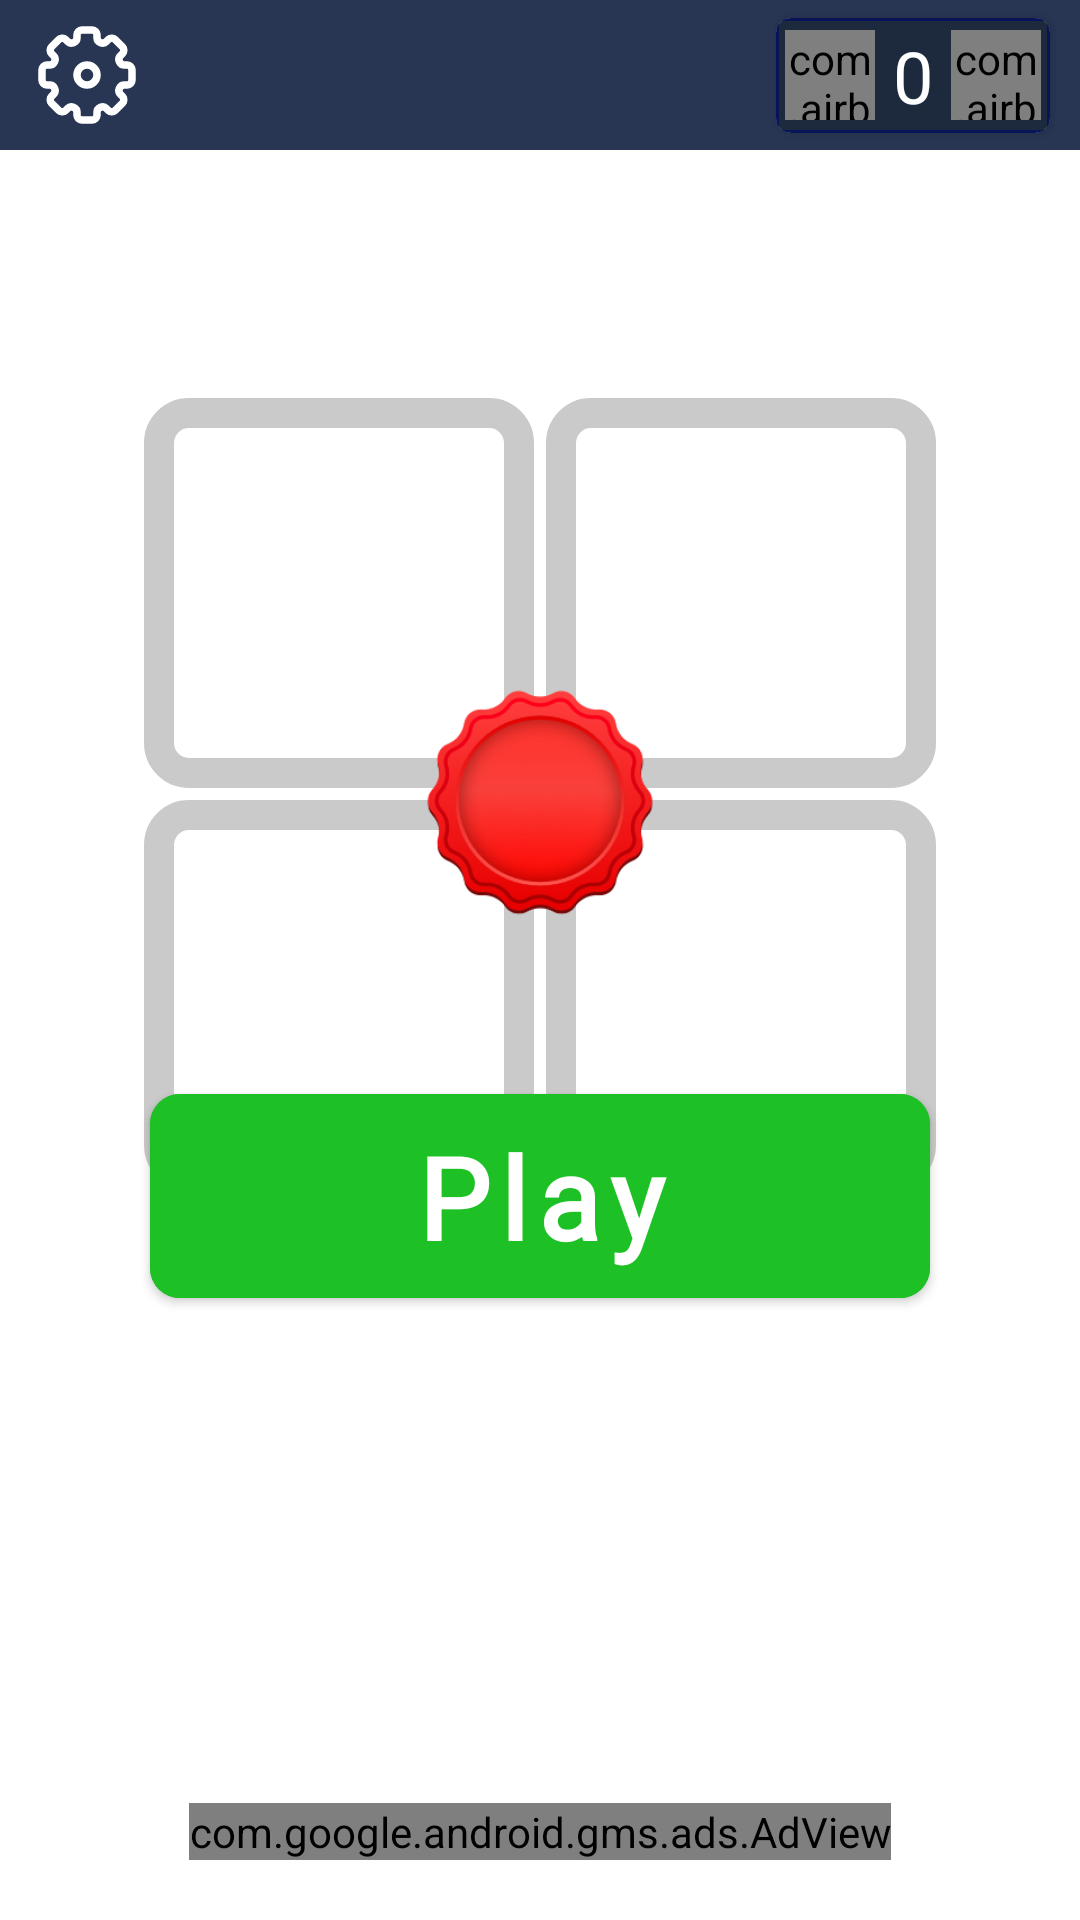

Icons on this 1080px×1920px Android screen, each with the point to tap as (x=x, y=y):
settings: (x=87, y=75)
